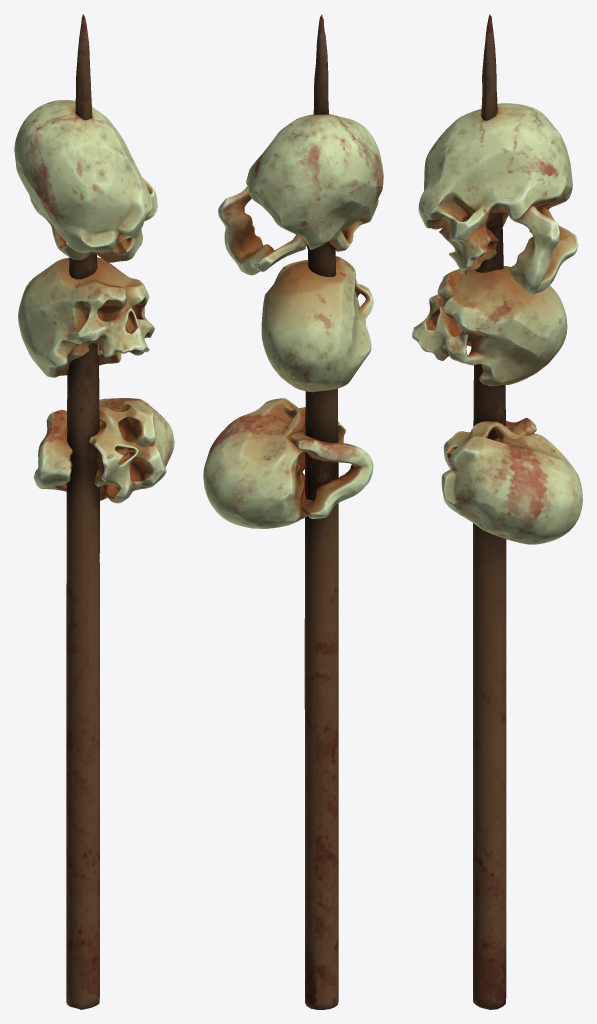
The model's file is stick2.glb.
The picture shows the model from 3 angles, left to right: view 1: azimuth 30°, elevation 25°; view 2: azimuth 150°, elevation 25°; view 3: azimuth 270°, elevation 25°; orthographic projection.
Visible parts, largest first — view 1: stick2; view 2: stick2; view 3: stick2.
Part boxes in pixels (bbox=[...]): stick2: bbox=[14, 14, 174, 1009]; stick2: bbox=[203, 14, 383, 1009]; stick2: bbox=[412, 14, 582, 1009].
Size of the model in its own units: 2.95 by 18.9 by 2.95.
Materials: 1 (1 with a texture image).
